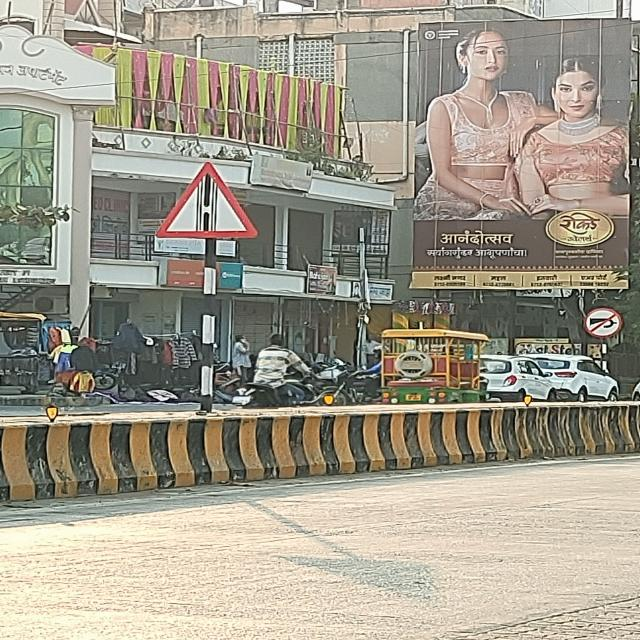GAP_IN_MEDIAN: (154, 163, 259, 237)
